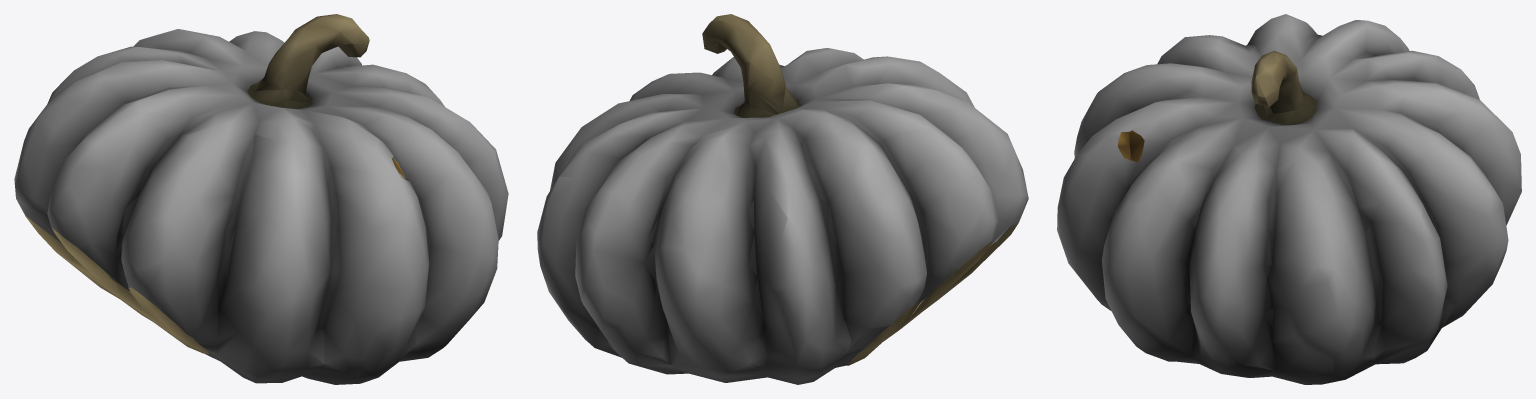
Rendered from pumpkin_b.glb.
3 renders of one model, left to right at view 1: azimuth 30°, elevation 25°; view 2: azimuth 150°, elevation 25°; view 3: azimuth 270°, elevation 25°, orthographic. The views are drawn at different scales.
Visible parts, largest first — view 1: pumpkin_b_LOD0; view 2: pumpkin_b_LOD0; view 3: pumpkin_b_LOD0.
Part boxes in pixels (x1,y1,x2,y2): pumpkin_b_LOD0: (14,14,508,384); pumpkin_b_LOD0: (537,14,1028,384); pumpkin_b_LOD0: (1057,14,1521,384).
Size of what is drawn, in the model's own units: 0.8724 by 0.6233 by 0.8816.
